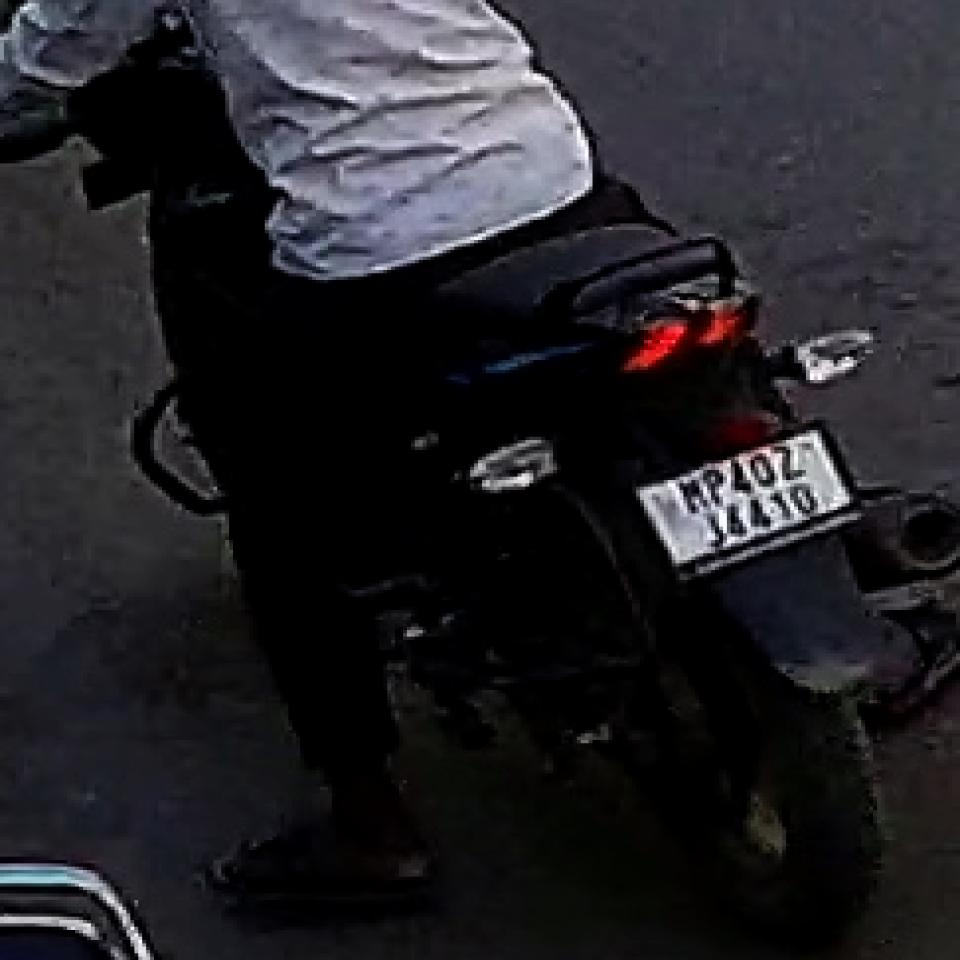tail_light: (607, 290, 766, 384)
